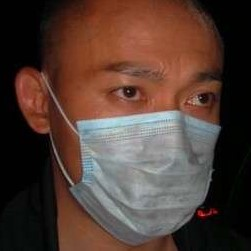mask: (63, 105, 227, 240)
